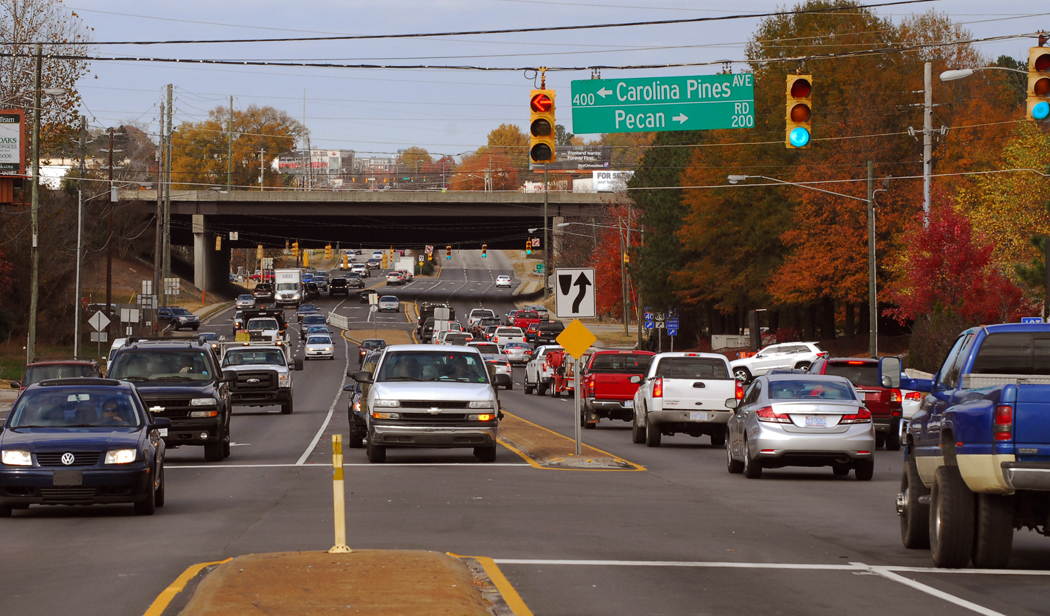traffic_light: (527, 87, 559, 166), (783, 73, 814, 150)
